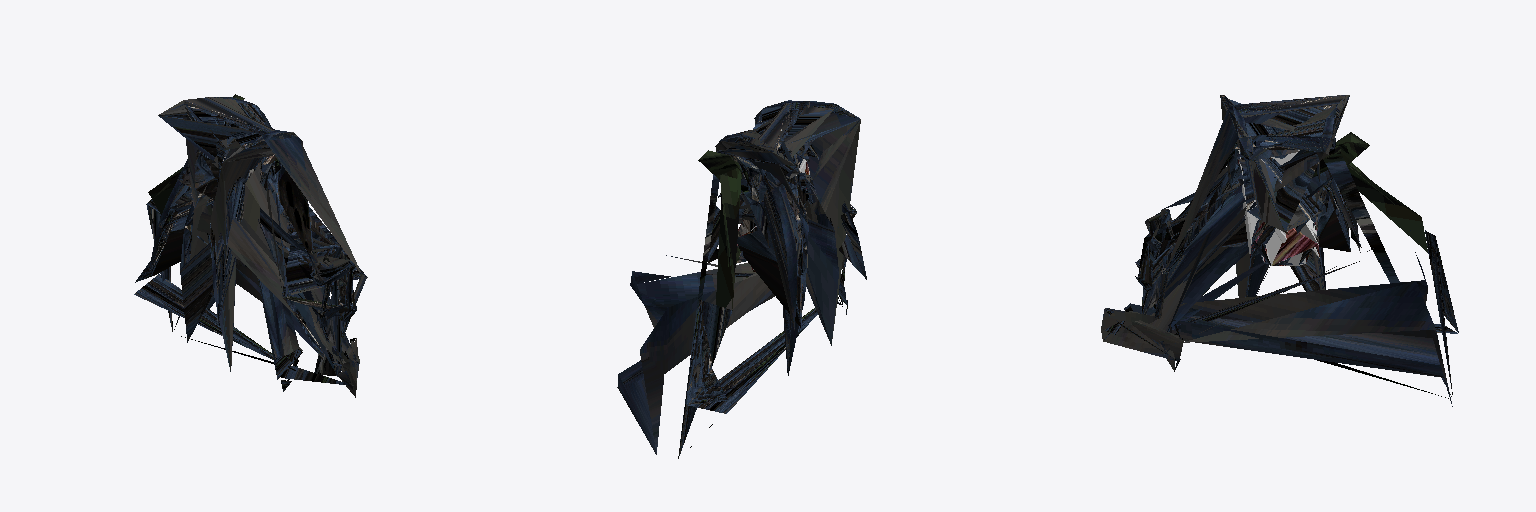
3 renders of one model, left to right at view 1: azimuth 30°, elevation 25°; view 2: azimuth 150°, elevation 25°; view 3: azimuth 270°, elevation 25°, orthographic.
Visible parts, largest first — view 1: limbs_base1, hunter_base1, torso_base1, torso_destroy1; view 2: limbs_base1, hunter_base1, torso_destroy1, torso_base1; view 3: limbs_base1, hunter_base1, torso_base1, left_foot, torso_destroy1.
Part boxes in pixels (left/top/right/bottom): limbs_base1: left=134, top=94, right=366, bottom=397; hunter_base1: left=149, top=97, right=367, bottom=374; torso_base1: left=160, top=102, right=281, bottom=189; torso_destroy1: left=149, top=97, right=295, bottom=269; limbs_base1: left=617, top=101, right=866, bottom=458; hunter_base1: left=717, top=101, right=866, bottom=372; torso_destroy1: left=718, top=100, right=833, bottom=329; torso_base1: left=722, top=121, right=802, bottom=269; limbs_base1: left=1101, top=95, right=1458, bottom=406; hunter_base1: left=1138, top=95, right=1359, bottom=318; torso_base1: left=1226, top=99, right=1348, bottom=265; left_foot: left=1238, top=150, right=1319, bottom=265; torso_destroy1: left=1225, top=96, right=1360, bottom=265.
Bounding box in the file's own units: 43.61 × 85.94 × 98.11.
Materials: 3 (2 with a texture image).